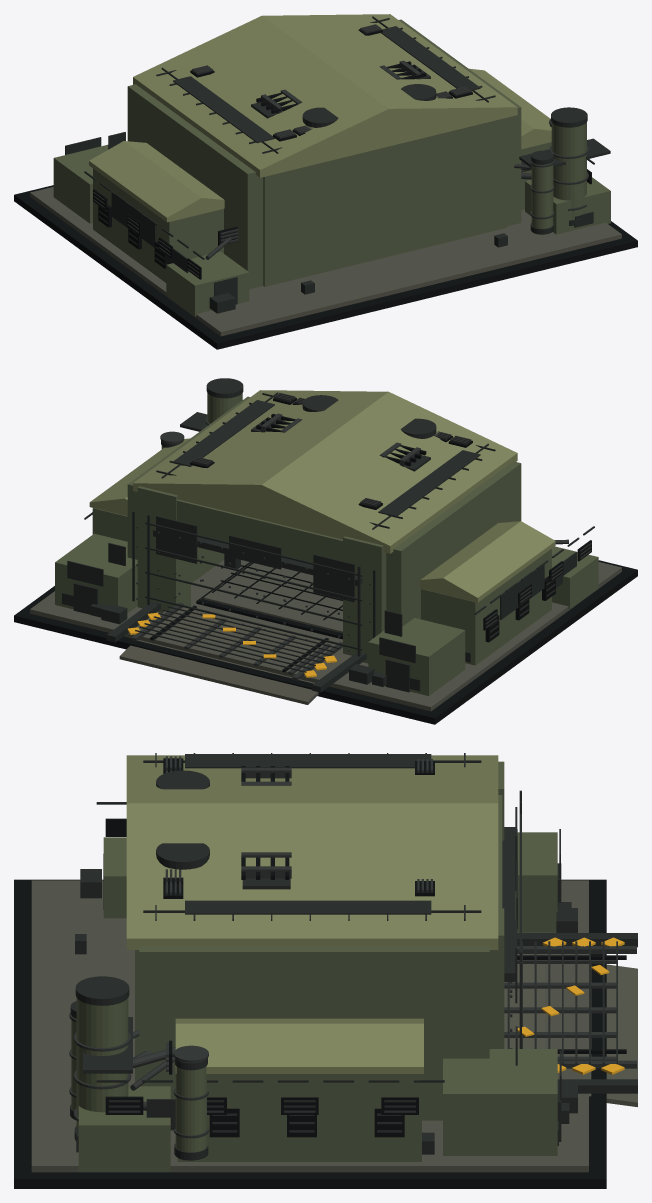
File: Bastion_WarFactoryCMV2_BaseArmor.obj
3 renders of one model, top to bottom at view 1: azimuth 30°, elevation 25°; view 2: azimuth 150°, elevation 25°; view 3: azimuth 270°, elevation 25°, orthographic. The views are drawn at different scales.
Visible parts, largest first — view 1: sloped_main_roof_22, rear_wall_18, main_concrete_pad_1, main_left_wall_16, foundation_black_0, left_annex_roof_28, left_mid_annex_26, left_rear_service_block_32, main_rear_stack_body_93, front_left_service_block_30, main_right_wall_17, right_rear_service_block_33 (+8 smaller); view 2: sloped_main_roof_22, main_concrete_pad_1, main_left_wall_16, foundation_black_0, front_vehicle_ramp_2, left_annex_roof_28, left_mid_annex_26, bay_floor_visible_25, front_upper_lintel_19, front_left_service_block_30, front_right_pillar_21, front_left_pillar_20 (+26 smaller); view 3: sloped_main_roof_22, main_right_wall_17, main_concrete_pad_1, foundation_black_0, right_mid_annex_27, right_annex_roof_29, front_right_service_block_31, right_rear_service_block_33, front_vehicle_ramp_2, main_rear_stack_body_93, front_left_service_block_30, v2_roof_team_plate_backing_192 (+19 smaller).
Boxes of the visible parts, x1=… form: sloped_main_roof_22: x1=133, y1=14, x2=517, y2=177; rear_wall_18: x1=263, y1=117, x2=507, y2=286; main_concrete_pad_1: x1=30, y1=187, x2=621, y2=336; main_left_wall_16: x1=127, y1=84, x2=263, y2=289; foundation_black_0: x1=14, y1=185, x2=637, y2=349; left_annex_roof_28: x1=89, y1=141, x2=224, y2=222; left_mid_annex_26: x1=93, y1=168, x2=223, y2=282; left_rear_service_block_32: x1=166, y1=251, x2=249, y2=316; main_rear_stack_body_93: x1=551, y1=122, x2=586, y2=225; front_left_service_block_30: x1=53, y1=144, x2=108, y2=223; main_right_wall_17: x1=399, y1=19, x2=521, y2=226; right_rear_service_block_33: x1=525, y1=177, x2=610, y2=234; sloped_main_roof_22: x1=133, y1=390, x2=517, y2=553; main_concrete_pad_1: x1=30, y1=560, x2=621, y2=711; main_left_wall_16: x1=386, y1=461, x2=521, y2=626; foundation_black_0: x1=14, y1=560, x2=637, y2=724; front_vehicle_ramp_2: x1=119, y1=607, x2=351, y2=704; left_annex_roof_28: x1=420, y1=521, x2=555, y2=602; left_mid_annex_26: x1=421, y1=548, x2=551, y2=665; bay_floor_visible_25: x1=203, y1=562, x2=342, y2=633; front_upper_lintel_19: x1=176, y1=499, x2=342, y2=562; front_left_service_block_30: x1=368, y1=618, x2=465, y2=695; front_right_pillar_21: x1=137, y1=486, x2=190, y2=613; front_left_pillar_20: x1=343, y1=536, x2=386, y2=663; sloped_main_roof_22: x1=126, y1=755, x2=498, y2=949; main_right_wall_17: x1=139, y1=946, x2=489, y2=1120; main_concrete_pad_1: x1=31, y1=880, x2=588, y2=1172; foundation_black_0: x1=14, y1=879, x2=606, y2=1188; right_mid_annex_27: x1=177, y1=1074, x2=421, y2=1161; right_annex_roof_29: x1=175, y1=1018, x2=423, y2=1073; front_right_service_block_31: x1=443, y1=1049, x2=557, y2=1155; right_rear_service_block_33: x1=78, y1=1086, x2=170, y2=1172; front_vehicle_ramp_2: x1=504, y1=954, x2=637, y2=1107; main_rear_stack_body_93: x1=76, y1=998, x2=128, y2=1128; front_left_service_block_30: x1=515, y1=832, x2=557, y2=932; v2_roof_team_plate_backing_192: x1=185, y1=900, x2=431, y2=914.
Size of the model in its own units: 17 by 6.26 by 14.95.
Materials: 8 (8 with a texture image).
